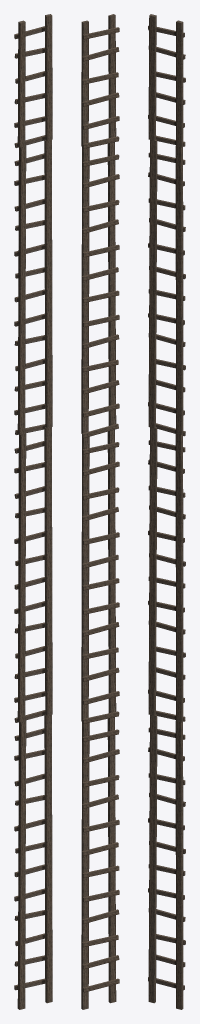
File: WLad04.glb
3 views of the same model, side by side, from view 1: azimuth 30°, elevation 25°; view 2: azimuth 210°, elevation 25°; view 3: azimuth 330°, elevation 25° (orthographic).
Parts seen in each view (by area): view 1: _WLad04; view 2: _WLad04; view 3: _WLad04.
Boxes of the visible parts, x1,y1,x2,y2 form: _WLad04: [14, 14, 52, 1009]; _WLad04: [81, 14, 119, 1009]; _WLad04: [148, 14, 185, 1009].
Bounding box in the file's own units: 0.9314 × 24.03 × 0.1354.
1 material, 1 textured.
